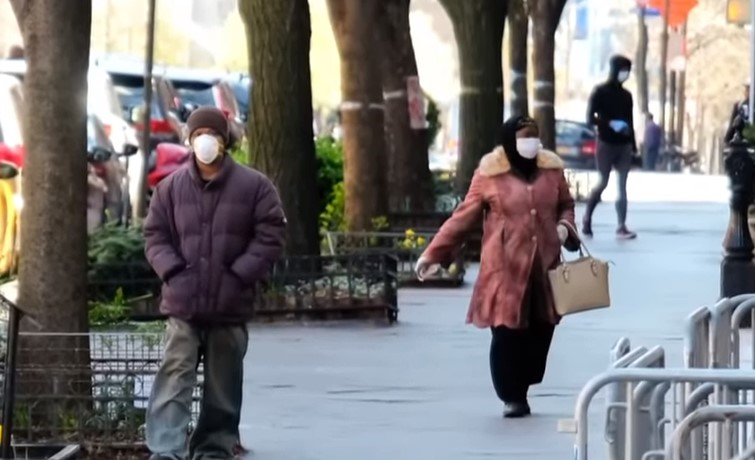face_with_mask: (185, 108, 232, 169), (498, 114, 545, 168)
